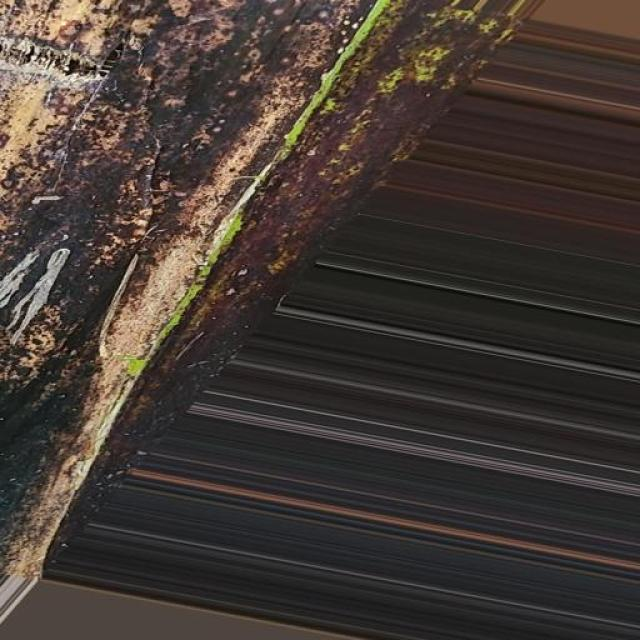Anthracnose: (0, 0, 558, 630)
